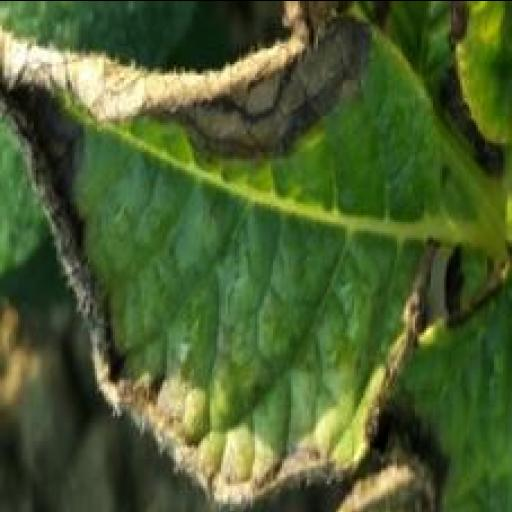disease_tomato: (0, 1, 507, 510)
